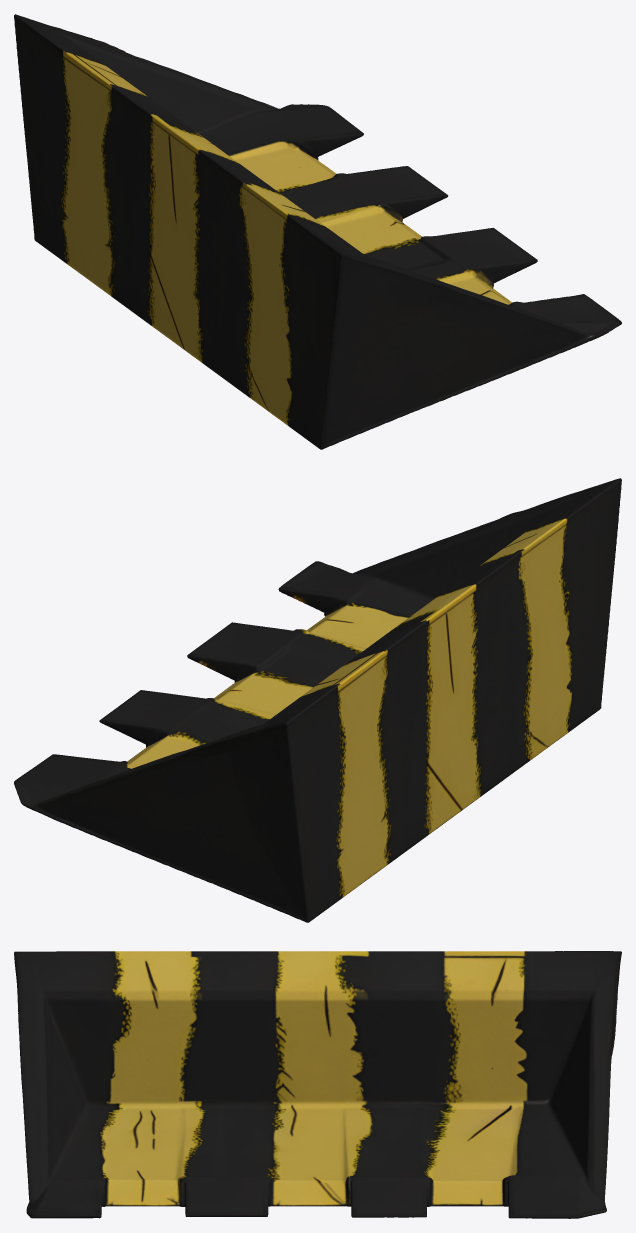
The model's file is tripo_convert_17a46cfc-a6f6-4219-8150-f22f074e5015.fbx.
3 renders of one model, top to bottom at view 1: azimuth 30°, elevation 25°; view 2: azimuth 150°, elevation 25°; view 3: azimuth 270°, elevation 25°, orthographic. The views are drawn at different scales.
Parts seen in each view (by area): view 1: tripo_node_17a46cfc; view 2: tripo_node_17a46cfc; view 3: tripo_node_17a46cfc.
Part boxes in pixels (left/top/right/bottom): tripo_node_17a46cfc: left=14, top=14, right=621, bottom=449; tripo_node_17a46cfc: left=14, top=478, right=621, bottom=922; tripo_node_17a46cfc: left=14, top=951, right=621, bottom=1218.
Size of the model in its own units: 51.3 by 35.53 by 100.
1 material, 1 textured.
